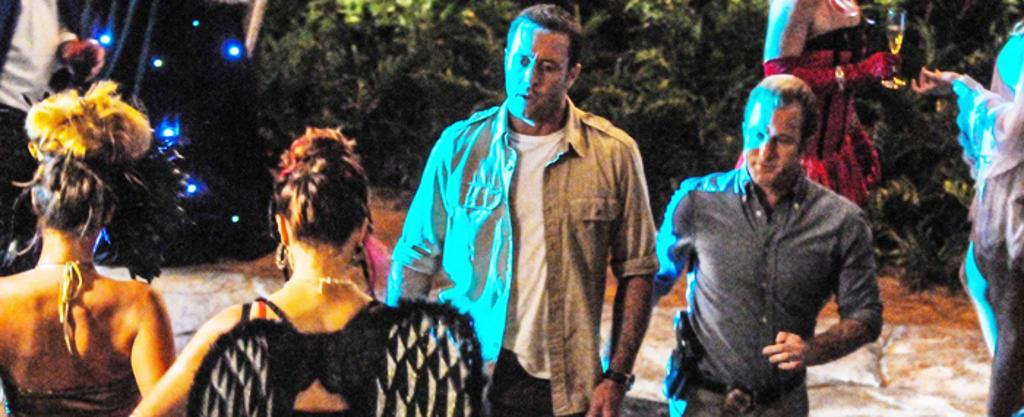face: (506, 30, 564, 112), (738, 98, 794, 176)
